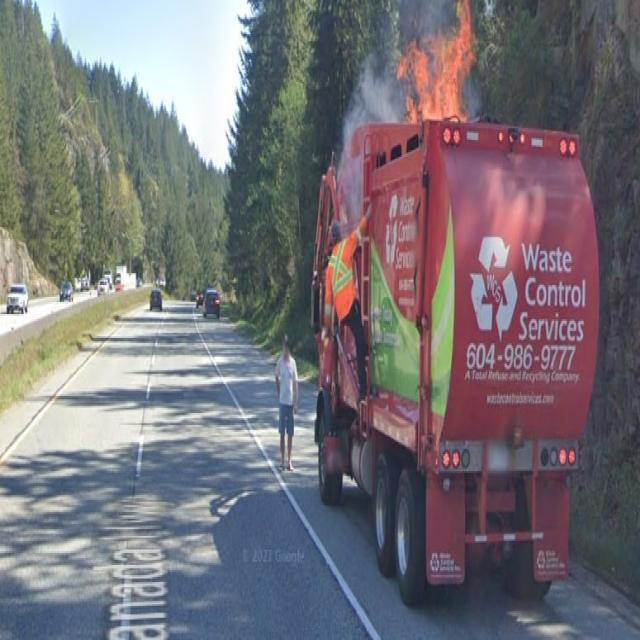Fire: (398, 2, 472, 124)
Smoke: (336, 0, 473, 212)
